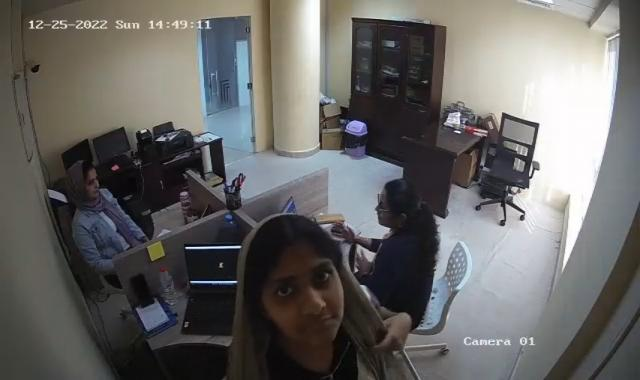no_hairnet: (237, 225, 344, 343), (377, 180, 421, 226), (68, 162, 100, 200)
